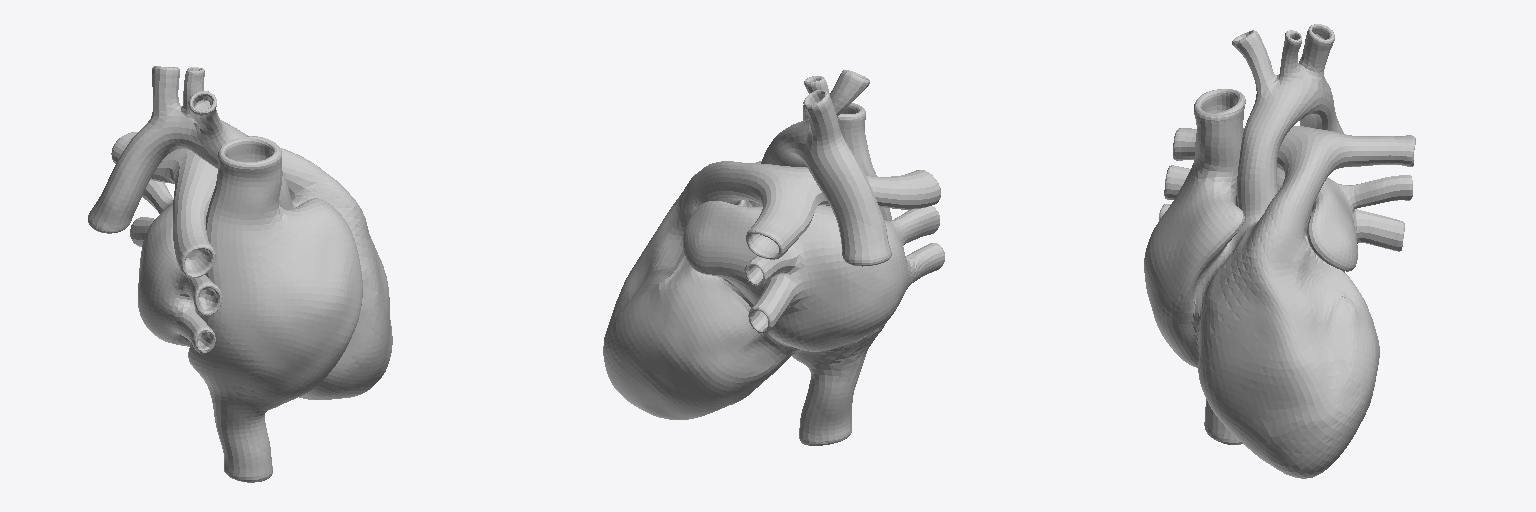
3 views of the same model, side by side, from view 1: azimuth 30°, elevation 25°; view 2: azimuth 150°, elevation 25°; view 3: azimuth 270°, elevation 25° (orthographic).
Visible parts, largest first — view 1: HEART_PRO; view 2: HEART_PRO; view 3: HEART_PRO.
Boxes of the visible parts, box(x1,y1,x2,y2) form: HEART_PRO: box(88, 66, 392, 482); HEART_PRO: box(603, 70, 944, 445); HEART_PRO: box(1144, 24, 1415, 478).
Size of the model in its own units: 630 by 828 by 520.